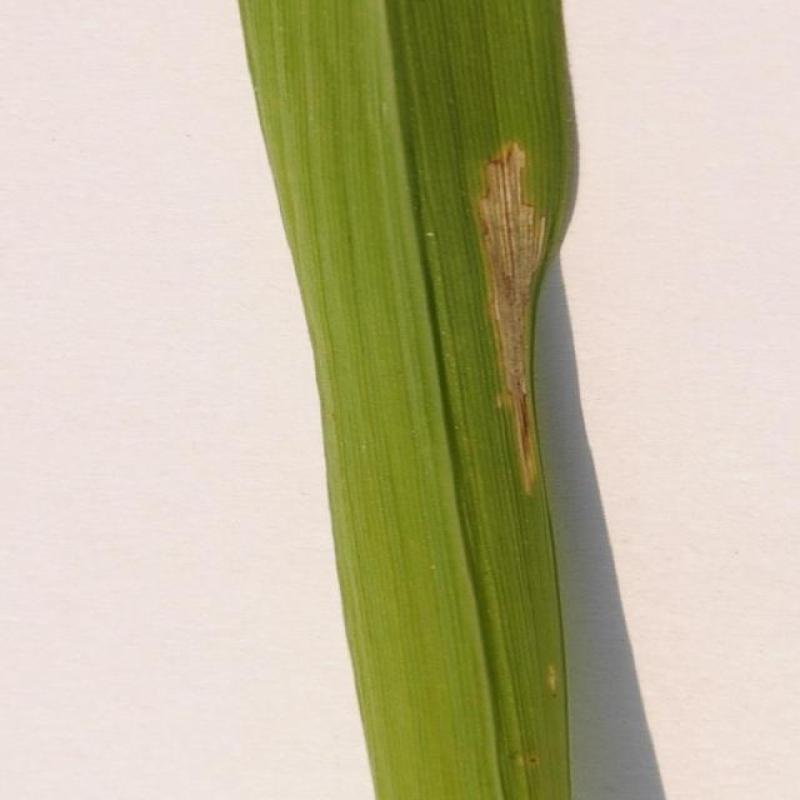Bacterial_Leaf_Blight: (434, 125, 600, 484)
